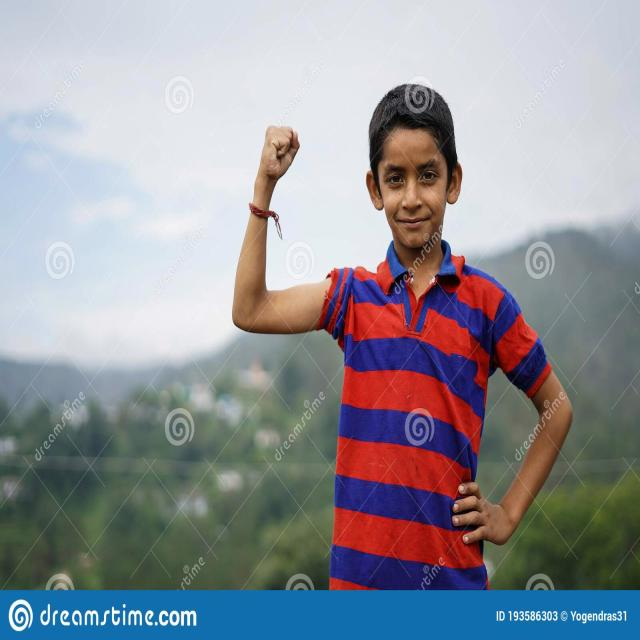child: (226, 48, 571, 590)
